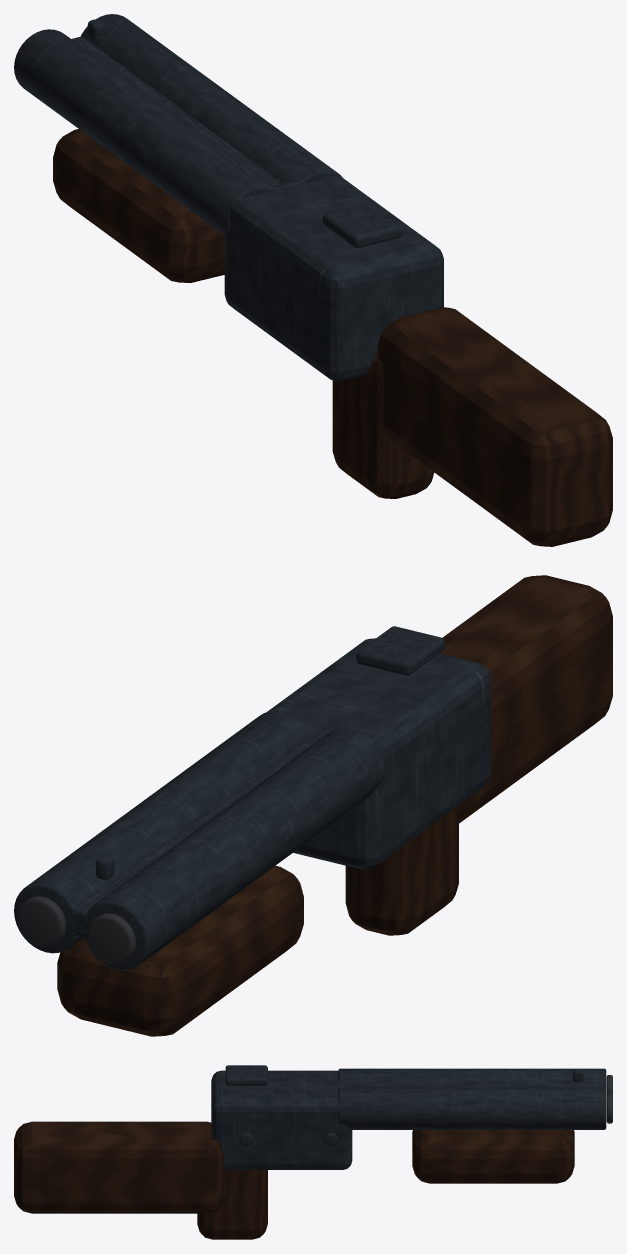
The model's file is double_barrel.glb.
3 views of the same model, one above another, from view 1: azimuth 30°, elevation 25°; view 2: azimuth 150°, elevation 25°; view 3: azimuth 270°, elevation 25° (orthographic). The views are drawn at different scales.
Parts seen in each view (by area): view 1: Break action receiver, Grip, Barrel bridge; view 2: Break action receiver, Grip, Barrel bridge, Open muzzle bore; view 3: Grip, Break action receiver, Barrel bridge, Front bead, Open muzzle bore.
Part boxes in pixels (left/top/right/bottom): Break action receiver: left=14, top=14, right=443, bottom=381; Grip: left=53, top=129, right=612, bottom=546; Barrel bridge: left=71, top=36, right=402, bottom=247; Break action receiver: left=14, top=638, right=490, bottom=970; Grip: left=57, top=575, right=612, bottom=1036; Barrel bridge: left=71, top=626, right=444, bottom=937; Open muzzle bore: left=18, top=896, right=135, bottom=963; Grip: left=14, top=1121, right=574, bottom=1239; Break action receiver: left=211, top=1068, right=606, bottom=1169; Barrel bridge: left=225, top=1065, right=602, bottom=1087; Front bead: left=239, top=1069, right=583, bottom=1145; Open muzzle bore: left=606, top=1075, right=612, bottom=1123.
Size of the model in its own units: 0.137 by 0.254 by 0.8495.
5 materials, 4 textured.
